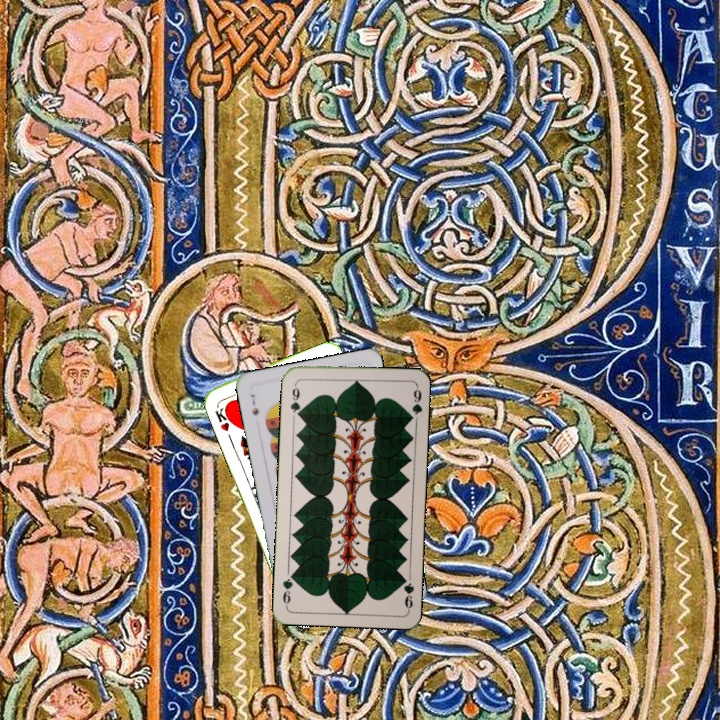G9: (398, 572, 417, 613), (286, 379, 303, 420)
HK: (211, 400, 235, 434)
S7: (246, 390, 261, 418)
